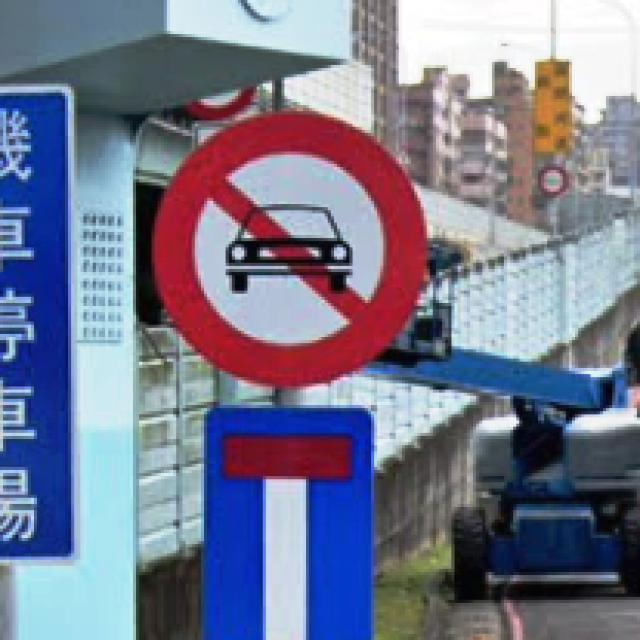nocar: (148, 111, 427, 393)
